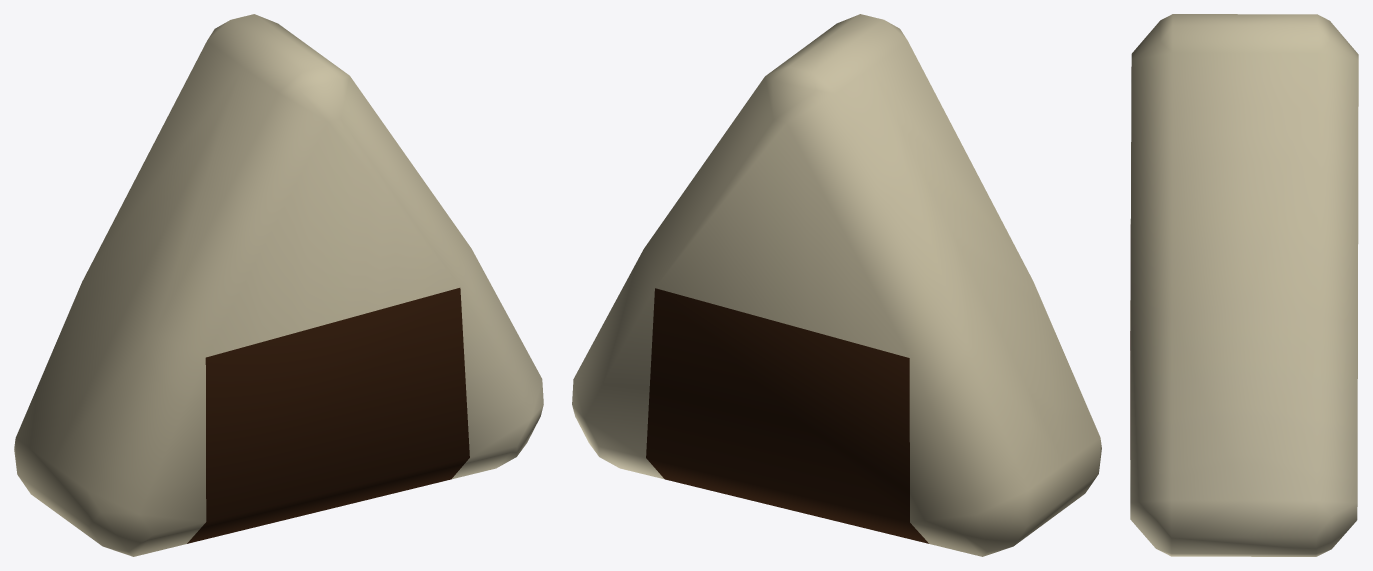
File: Sweets_RiceBall.gltf
3 views of the same model, side by side, from view 1: azimuth 30°, elevation 25°; view 2: azimuth 150°, elevation 25°; view 3: azimuth 270°, elevation 25° (orthographic).
Parts seen in each view (by area): view 1: Sweets_RiceBall; view 2: Sweets_RiceBall; view 3: Sweets_RiceBall.
Part boxes in pixels (x1,y1,x2,y2): Sweets_RiceBall: [14, 14, 543, 556]; Sweets_RiceBall: [572, 14, 1101, 556]; Sweets_RiceBall: [1130, 14, 1358, 556].
Bounding box in the file's own units: 0.1792 × 0.1669 × 0.0771.
Materials: 1 (1 with a texture image).
